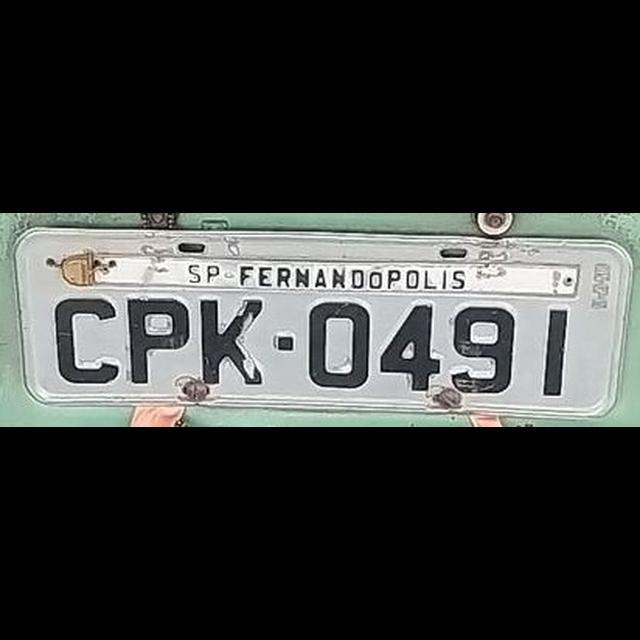Caractere: (195, 295, 267, 389), (379, 297, 447, 393), (124, 294, 190, 386), (55, 294, 122, 384), (309, 296, 371, 389), (452, 303, 514, 393), (543, 306, 567, 398)
Placa: (12, 222, 632, 420)
